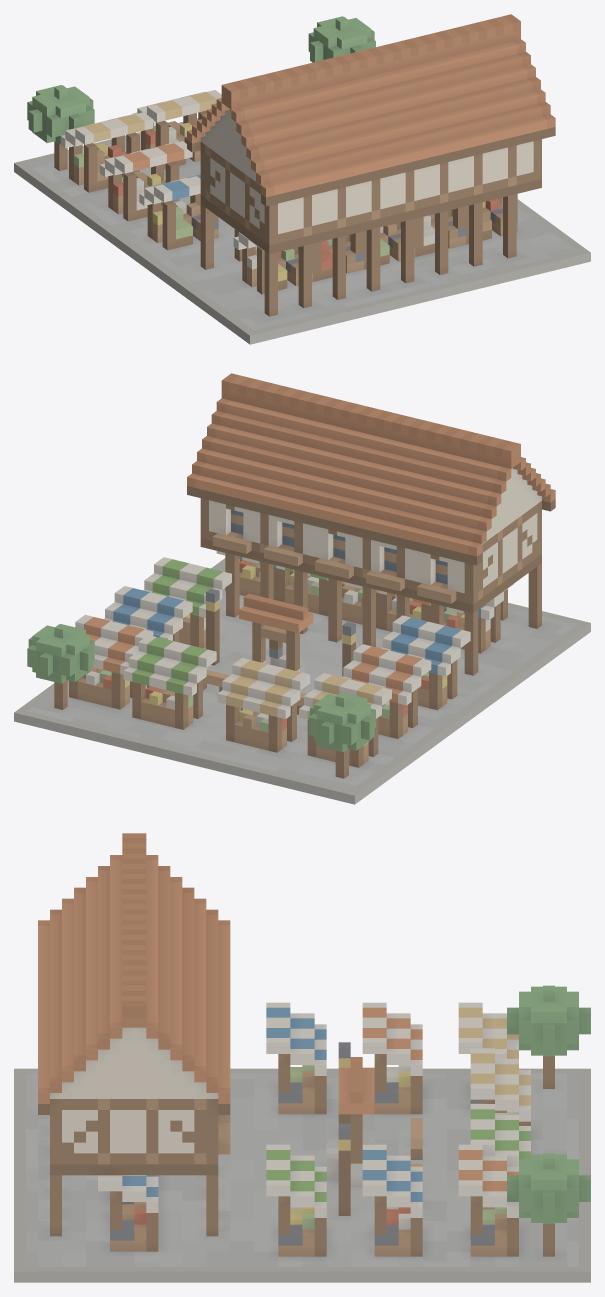
File: market.l2.glb
3 renders of one model, top to bottom at view 1: azimuth 30°, elevation 25°; view 2: azimuth 150°, elevation 25°; view 3: azimuth 270°, elevation 25°, orthographic. The views are drawn at different scales.
Visible parts, largest first — view 1: market; view 2: market; view 3: market.
Part boxes in pixels (x1,y1,x2,y2): market: [14, 14, 590, 344]; market: [14, 373, 590, 804]; market: [14, 833, 590, 1282].
Bounding box in the file's own units: 5 × 3 × 6.
